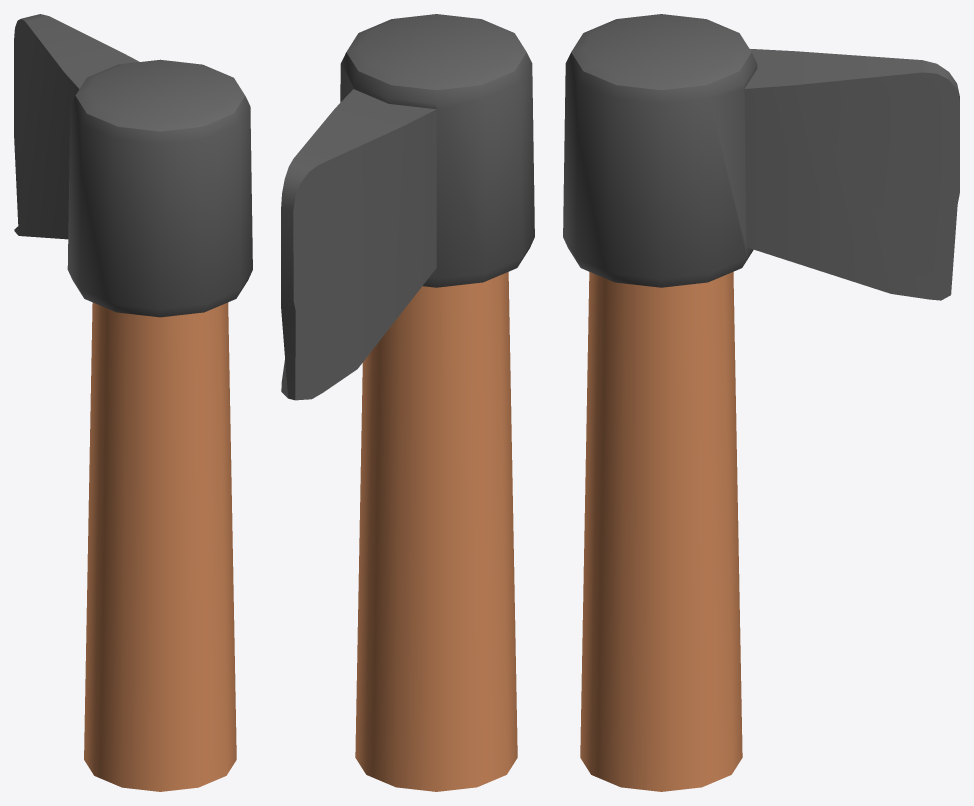
The model's file is Axe.fbx.
3 renders of one model, left to right at view 1: azimuth 30°, elevation 25°; view 2: azimuth 150°, elevation 25°; view 3: azimuth 270°, elevation 25°, orthographic. The views are drawn at different scales.
Visible parts, largest first — view 1: Axe; view 2: Axe; view 3: Axe.
Boxes of the visible parts, <box> form: Axe: <box>14,14,252,791</box>; Axe: <box>281,14,534,791</box>; Axe: <box>563,14,959,791</box>.
Bounding box in the file's own units: 20.99 × 83.59 × 42.34.
